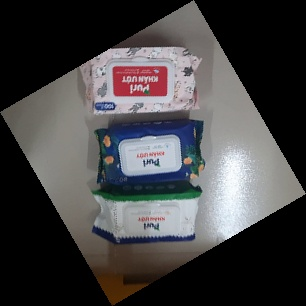Puri Trang: (88, 179, 203, 246)
Puri Xanh: (92, 117, 208, 189)
Puri hong: (81, 43, 203, 119)
